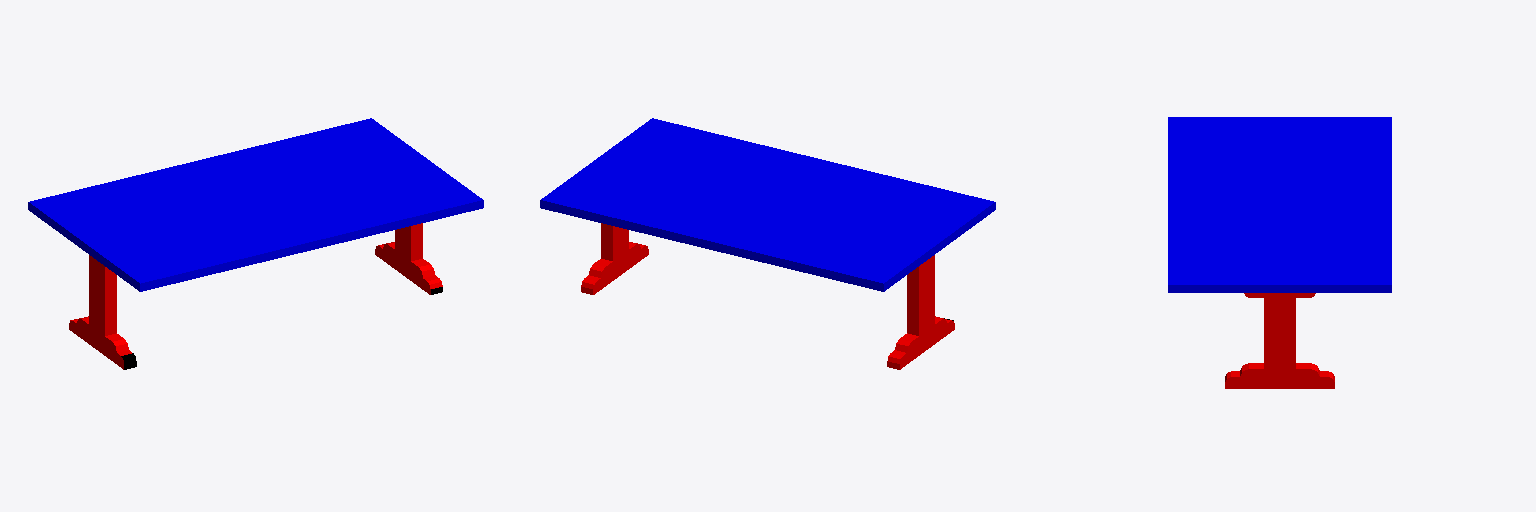
The model's file is TableSPExportFinal.obj.
3 renders of one model, left to right at view 1: azimuth 30°, elevation 25°; view 2: azimuth 150°, elevation 25°; view 3: azimuth 270°, elevation 25°, orthographic.
Parts seen in each view (by area): view 1: Table; view 2: Table; view 3: Table.
Boxes of the visible parts, x1=… form: Table: x1=28, y1=118, x2=483, y2=369; Table: x1=540, y1=118, x2=995, y2=369; Table: x1=1168, y1=117, x2=1391, y2=388.
Bounding box in the file's own units: 16.03 × 4.92 × 9.04.